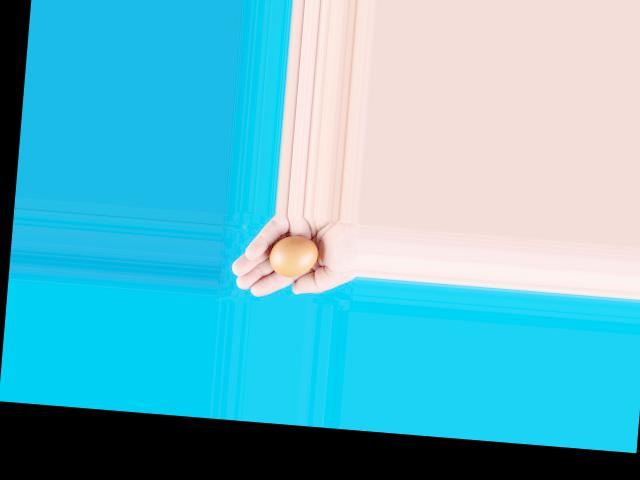egg: (267, 234, 318, 278)
